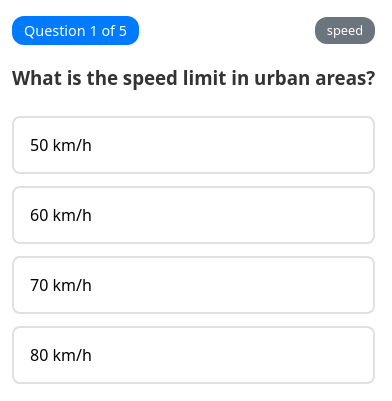
Scenario: Question Component › disables options after answer is submitted
The width and height of the screenshot is (392, 401).
# Click answer
What coordinates should you click on to do the following:
click the button "50 km/h"
I would click on:
 (61, 145)
Its box is [12, 116, 375, 174].
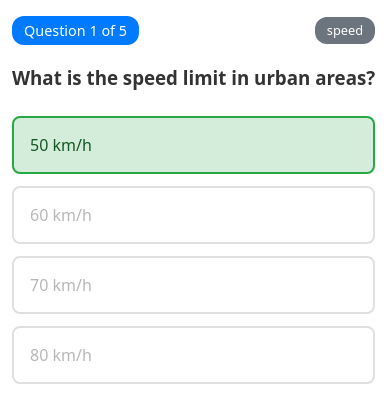
Check: the button "50 km/h" is disabled, box [12, 116, 375, 174]
